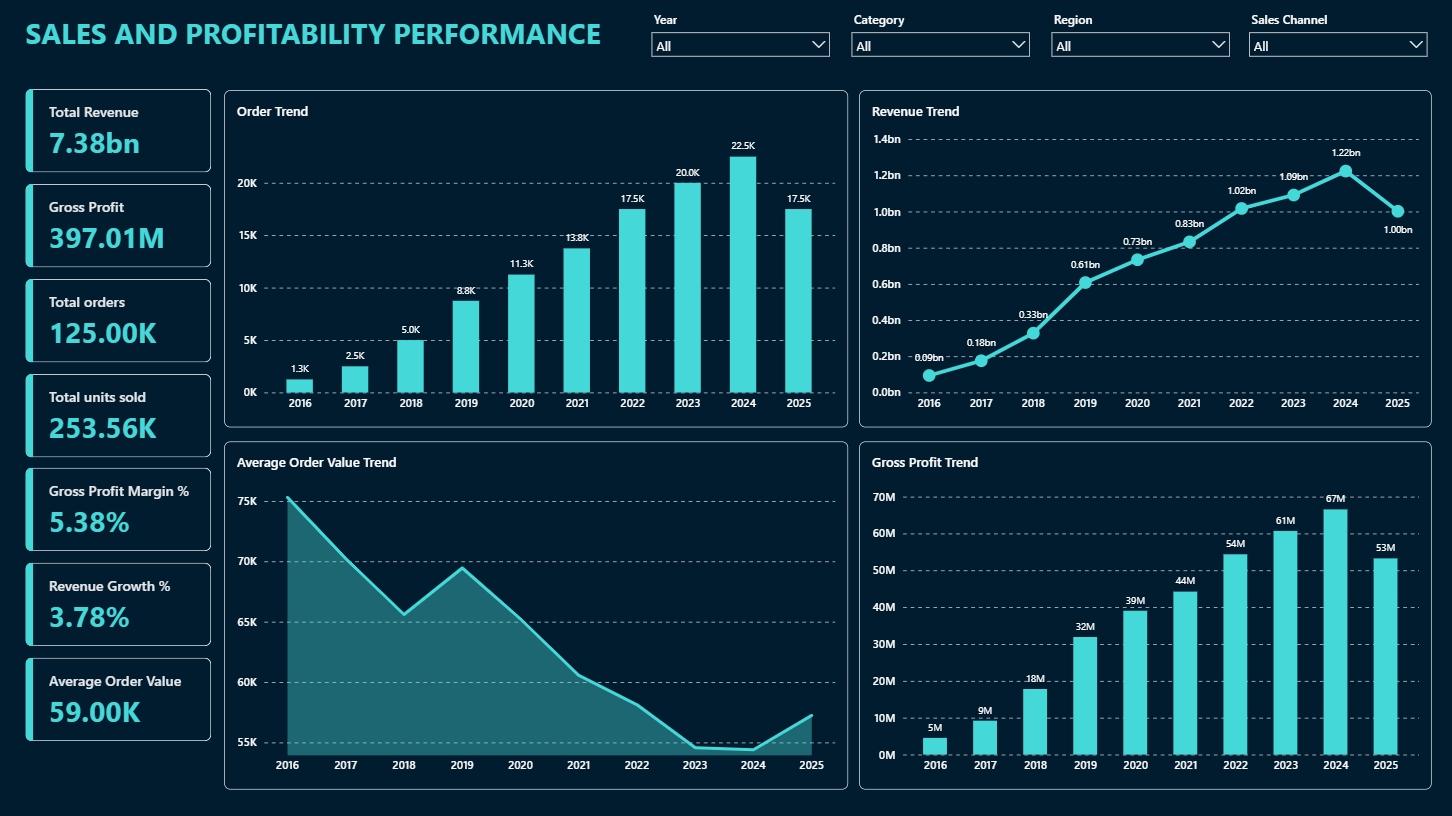

The dashboard page shown, as its layout file describes it:
{"tool":"powerbi","page":{"name":"Sales and profitability Dashboard","canvas":[1920,1080],"ordinal":0},"visuals":[{"type":"cardVisual","fields":{"Data":["Measures_Table.Total Revenue"]},"box":[37,119.3,245,110],"z":0},{"type":"cardVisual","fields":{"Data":["date_table.Gross Profit"]},"box":[37,244.3,245,110],"z":1000},{"type":"cardVisual","fields":{"Data":["measures table.Gross Profit Margin %"]},"box":[37,619.3,245,110],"z":2000},{"type":"cardVisual","fields":{"Data":["measures table.Total orders"]},"box":[37,369.3,245,110],"z":3000},{"type":"cardVisual","fields":{"Data":["measures table.Total units sold"]},"box":[37,494.3,245,110],"z":4000},{"type":"cardVisual","fields":{"Data":["measures table.Average Order Value"]},"box":[37,869.3,245,110],"z":5000},{"type":"lineChart","title":"Revenue Trend","fields":{"Category":["date_table.year","date_table.quarter","date_table.monthname"],"Y":["measures table.Total Revenue"]},"box":[1135.7,119.6,755.4,444.6],"z":6000},{"type":"clusteredColumnChart","title":"Order Trend","fields":{"Category":["date_table.year","date_table.quarter","date_table.monthname"],"Y":["measures table.Total orders"]},"box":[298.2,119.6,823.2,444.6],"z":7000},{"type":"areaChart","title":"Average Order Value Trend","fields":{"Category":["date_table.year","date_table.quarter","date_table.monthname"],"Y":["measures table.Average Order Value"]},"box":[298.2,583.9,823.2,458.9],"z":8000},{"type":"columnChart","title":"Gross Profit Trend","fields":{"Category":["date_table.year","date_table.quarter","date_table.monthname"],"Y":["measures table.Gross Profit"]},"box":[1135.7,583.9,755.4,458.9],"z":9000},{"type":"cardVisual","fields":{"Data":["measures table.Revenue Growth %"]},"box":[37,744.3,245,110],"z":10000},{"type":"slicer","title":"Years","fields":{"Values":["date_table.year"]},"box":[858,0,245,105],"z":11000},{"type":"slicer","title":"Sales Channel","fields":{"Values":["vovers orders.sales_channel"]},"box":[1646.4,0,245,105],"z":12000},{"type":"slicer","title":"Category","fields":{"Values":["vovers products.category"]},"box":[1121.4,0,245,105],"z":13000},{"type":"slicer","title":"Region","fields":{"Values":["vovers customers.region"]},"box":[1385.7,0,245,105],"z":14000},{"type":"textbox","box":[37,0,841,110],"z":15000}]}

Visuals, with their boxes in screenshot pixels (x1, y1, x2, y2), scaled from the page's 1920x1080 canvas onto the 1452x816 screenshot:
cardVisual - Measures_Table.Total Revenue: bbox(28, 90, 213, 173)
cardVisual - date_table.Gross Profit: bbox(28, 185, 213, 268)
cardVisual - measures table.Gross Profit Margin %: bbox(28, 468, 213, 551)
cardVisual - measures table.Total orders: bbox(28, 279, 213, 362)
cardVisual - measures table.Total units sold: bbox(28, 373, 213, 457)
cardVisual - measures table.Average Order Value: bbox(28, 657, 213, 740)
"Revenue Trend" lineChart: bbox(859, 90, 1430, 426)
"Order Trend" clusteredColumnChart: bbox(226, 90, 848, 426)
"Average Order Value Trend" areaChart: bbox(226, 441, 848, 788)
"Gross Profit Trend" columnChart: bbox(859, 441, 1430, 788)
cardVisual - measures table.Revenue Growth %: bbox(28, 562, 213, 645)
"Years" slicer: bbox(649, 0, 834, 79)
"Sales Channel" slicer: bbox(1245, 0, 1430, 79)
"Category" slicer: bbox(848, 0, 1033, 79)
"Region" slicer: bbox(1048, 0, 1233, 79)
textbox: bbox(28, 0, 664, 83)
